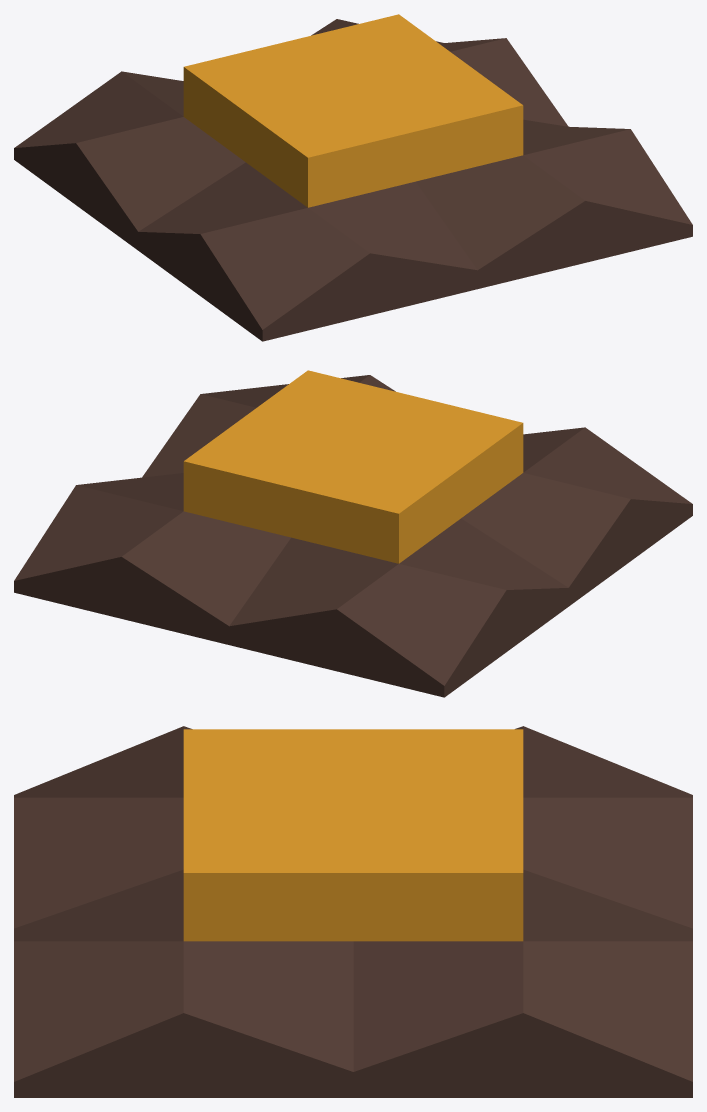
The model's file is Switch_01.fbx.
3 renders of one model, top to bottom at view 1: azimuth 30°, elevation 25°; view 2: azimuth 150°, elevation 25°; view 3: azimuth 270°, elevation 25°, orthographic. The views are drawn at different scales.
Parts seen in each view (by area): view 1: Cube; view 2: Cube; view 3: Cube.
Boxes of the visible parts, box(x1,y1,x2,y2) form: Cube: box(14, 14, 692, 341); Cube: box(14, 370, 692, 697); Cube: box(14, 726, 692, 1097).
Size of the model in its own units: 244 by 60.81 by 244.
